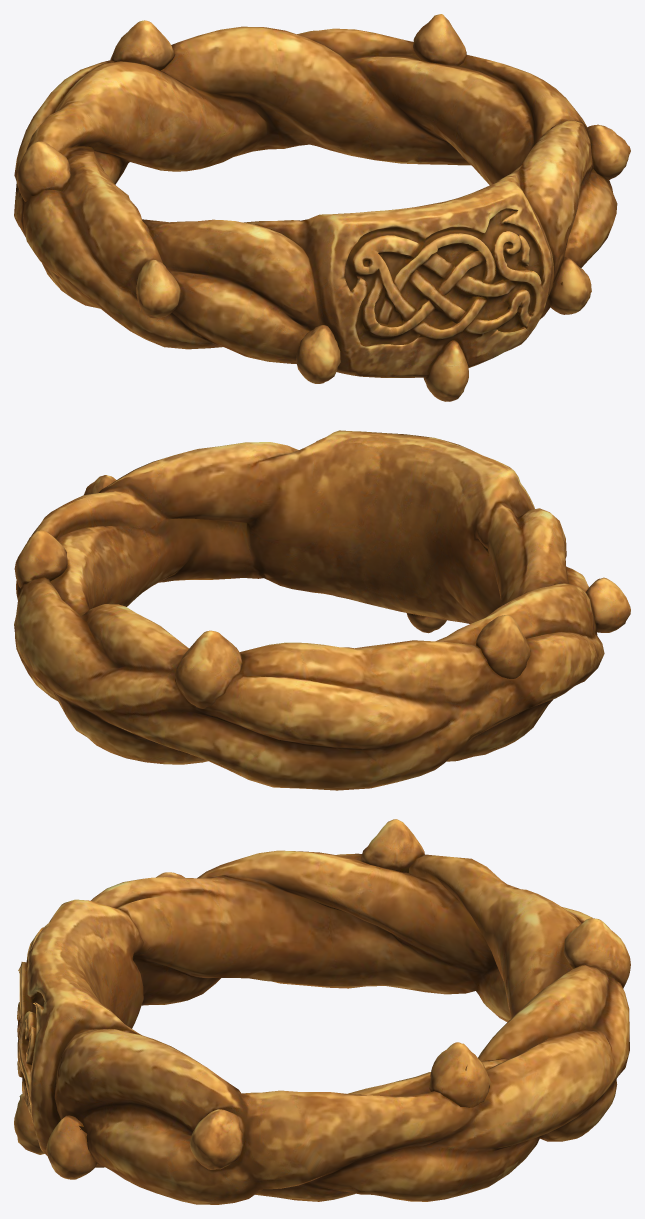
The model's file is DraupnirRing.fbx.
3 views of the same model, one above another, from view 1: azimuth 30°, elevation 25°; view 2: azimuth 150°, elevation 25°; view 3: azimuth 270°, elevation 25° (orthographic). The views are drawn at different scales.
Parts seen in each view (by area): view 1: geometry_0; view 2: geometry_0; view 3: geometry_0.
Part boxes in pixels (box(x1,y1,x2,y2)): geometry_0: box(14, 14, 630, 401); geometry_0: box(14, 430, 630, 790); geometry_0: box(14, 819, 630, 1204).
Size of the model in its own units: 95.36 by 34.08 by 89.5.
Materials: 1 (1 with a texture image).
